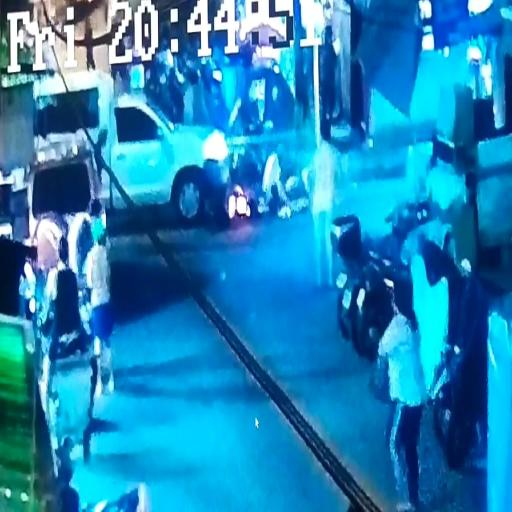Car: (8, 59, 233, 239), (23, 126, 134, 318)
Major Accident: (22, 36, 316, 237)
Motor: (337, 180, 441, 350), (212, 119, 308, 230)
